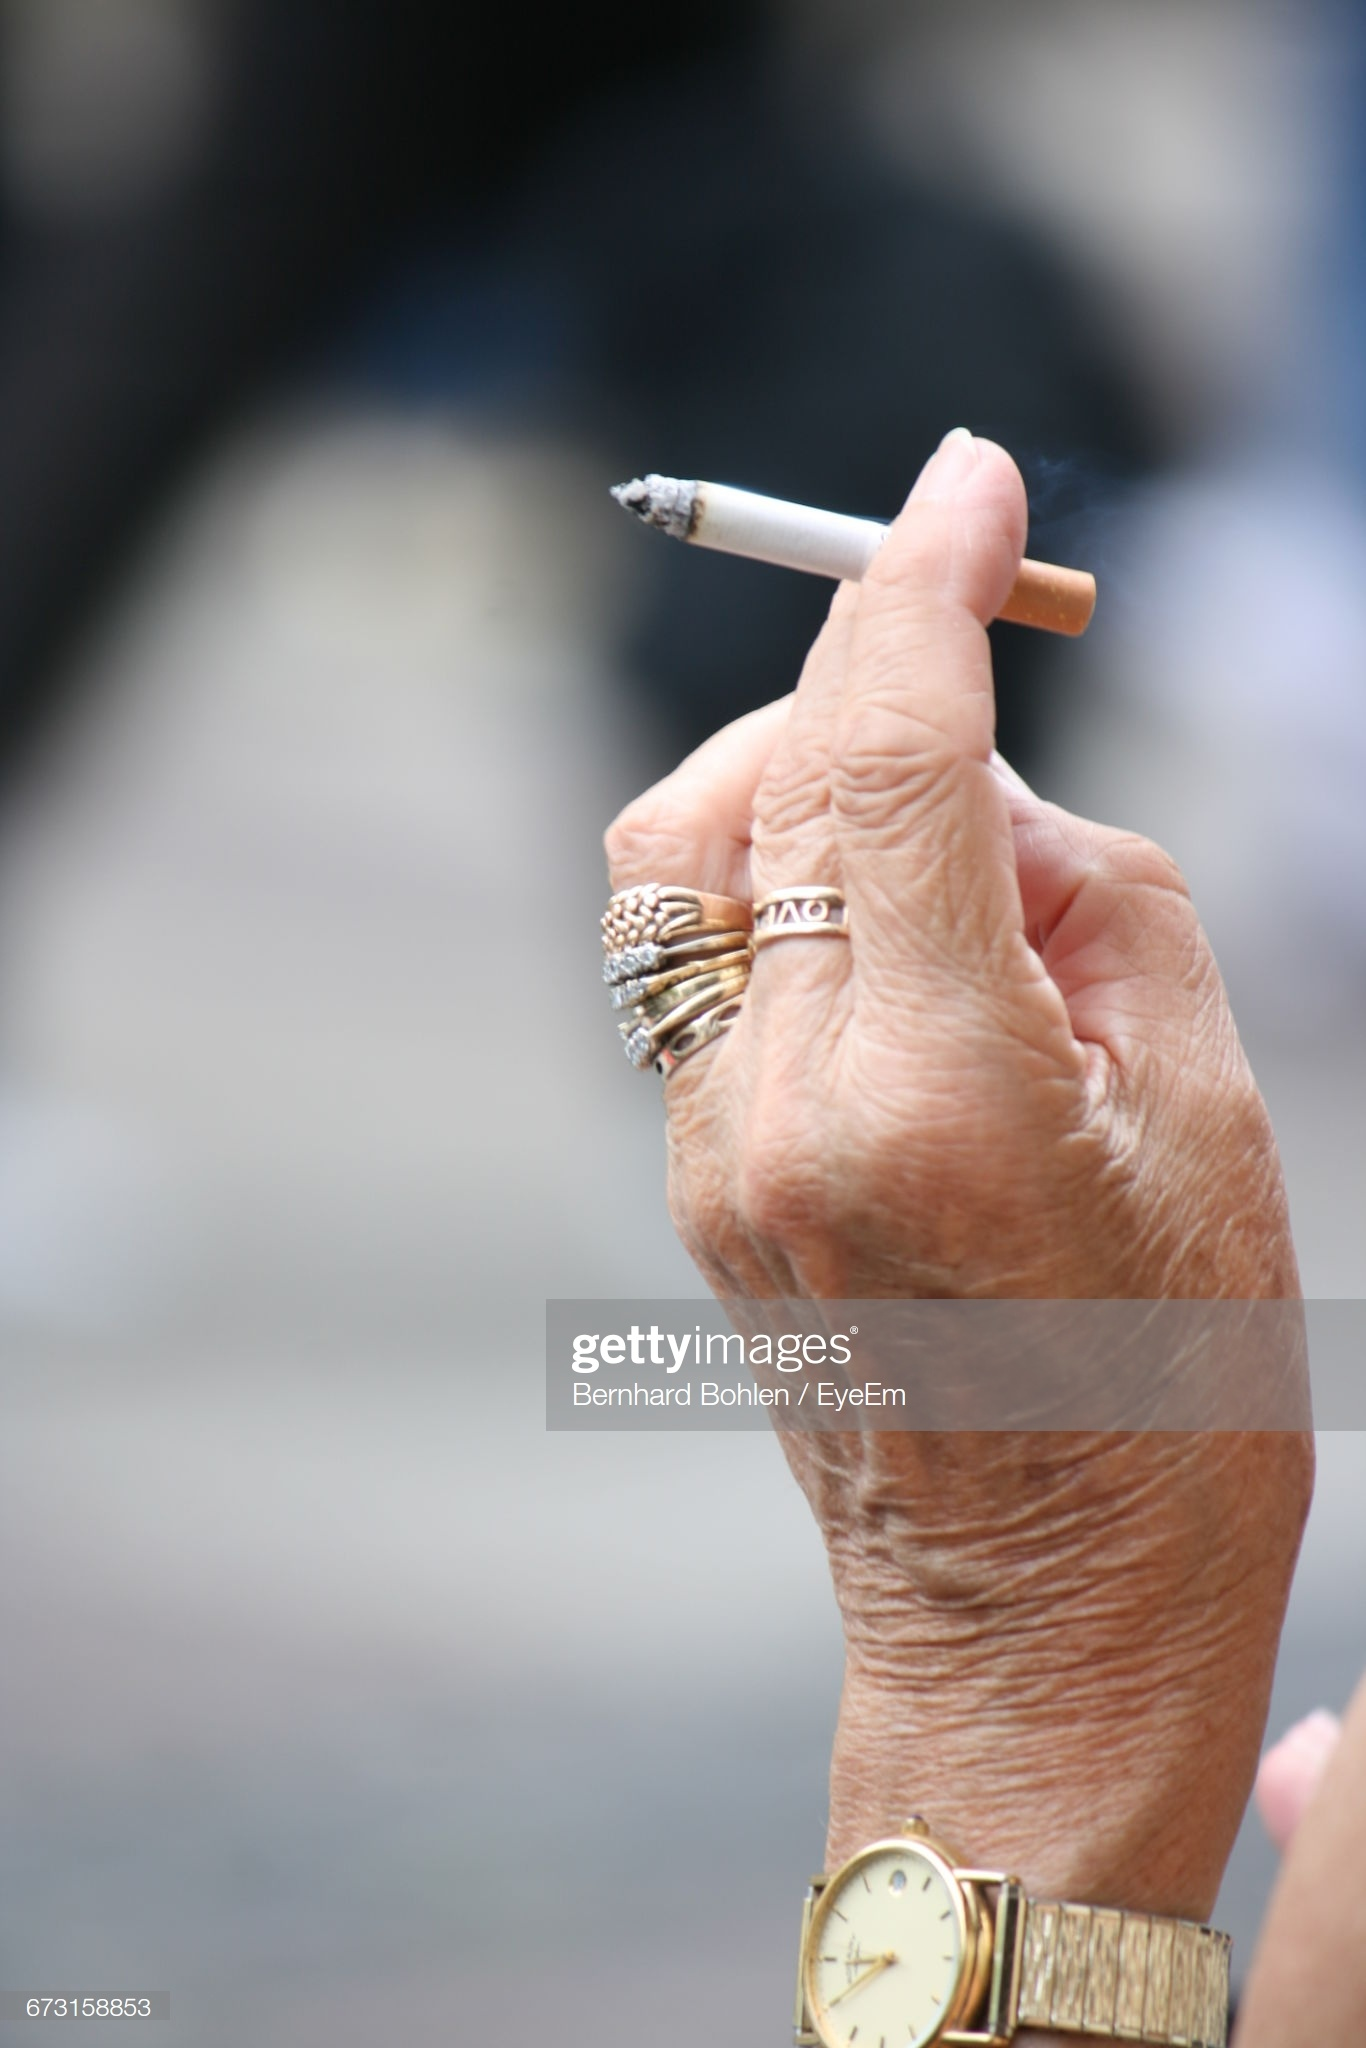sigaretta: (631, 466, 1098, 626)
